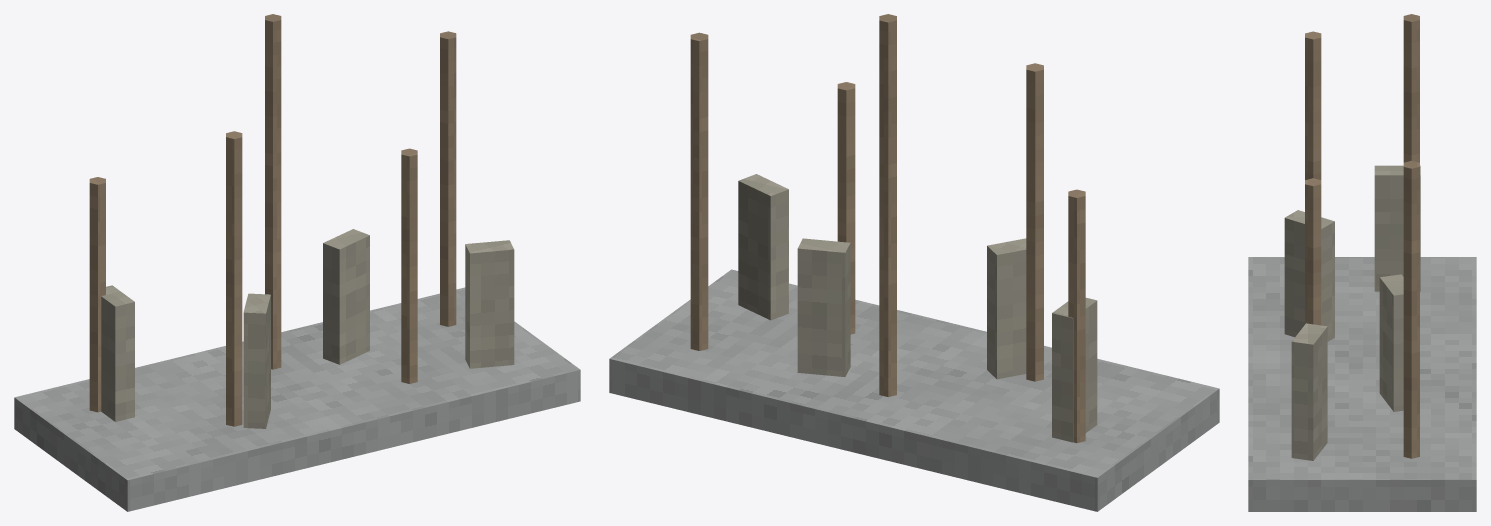
Rendered from level_blockout_marsh_reed_cluster.glb.
3 views of the same model, side by side, from view 1: azimuth 30°, elevation 25°; view 2: azimuth 150°, elevation 25°; view 3: azimuth 270°, elevation 25° (orthographic). The views are drawn at different scales.
Parts seen in each view (by area): view 1: level_blockout_marsh_reed_cluster; view 2: level_blockout_marsh_reed_cluster; view 3: level_blockout_marsh_reed_cluster.
Part boxes in pixels (bbox=[...]): level_blockout_marsh_reed_cluster: bbox=[14, 14, 580, 511]; level_blockout_marsh_reed_cluster: bbox=[609, 14, 1219, 511]; level_blockout_marsh_reed_cluster: bbox=[1248, 14, 1476, 511].
Bounding box in the file's own units: 1.5 × 1.21 × 0.65.
3 materials, 3 textured.
